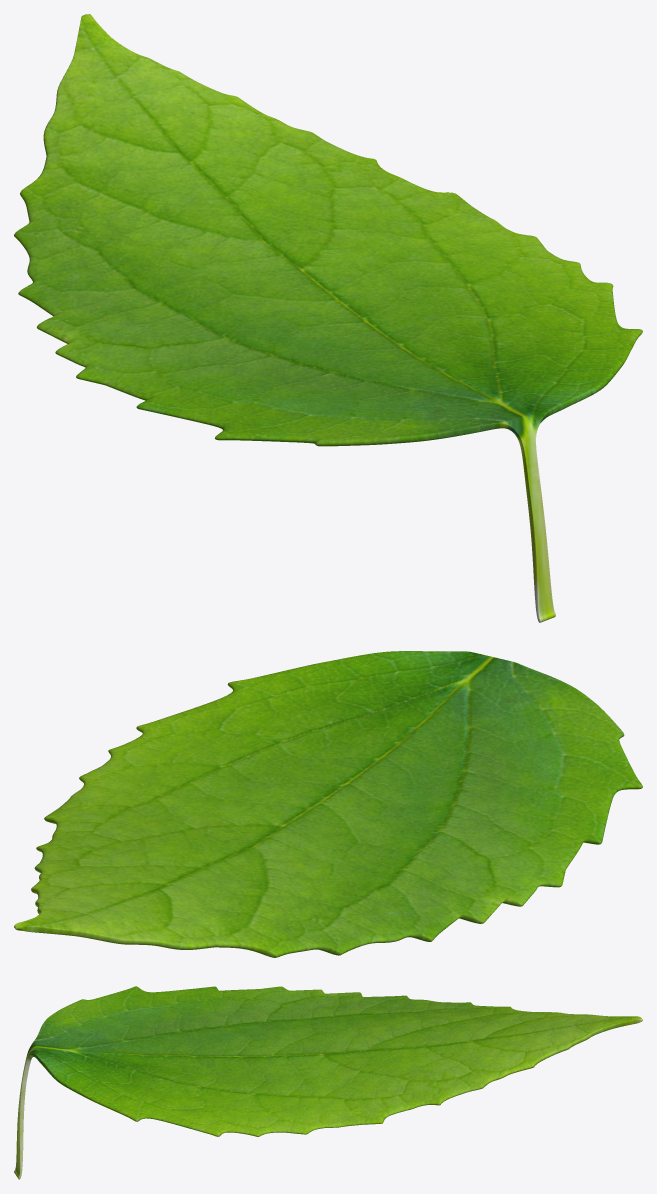
The model's file is BigLeaf.fbx.
3 views of the same model, one above another, from view 1: azimuth 30°, elevation 25°; view 2: azimuth 150°, elevation 25°; view 3: azimuth 270°, elevation 25° (orthographic). The views are drawn at different scales.
Parts seen in each view (by area): view 1: Leaf; view 2: Leaf; view 3: Leaf.
Part boxes in pixels (<box>): Leaf: <box>14,14,642,622</box>; Leaf: <box>14,651,642,957</box>; Leaf: <box>14,986,642,1179</box>.
Bounding box in the file's own units: 140 × 68.78 × 239.
1 material, 1 textured.
